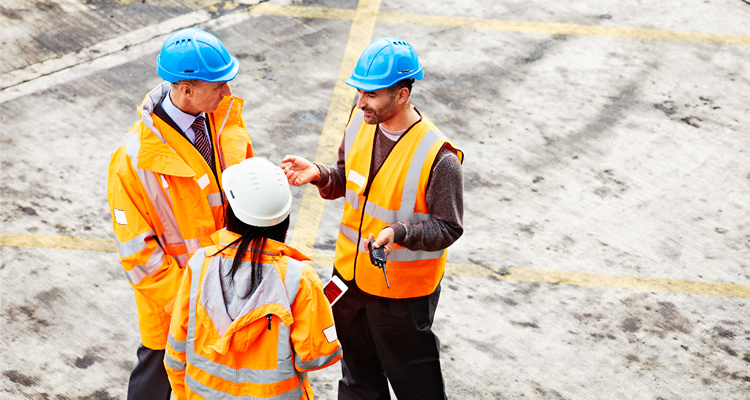Hard Hat: (219, 156, 291, 224), (158, 29, 239, 81), (349, 38, 424, 83)
High Viz: (189, 245, 297, 397), (120, 108, 230, 248), (347, 113, 438, 273)
